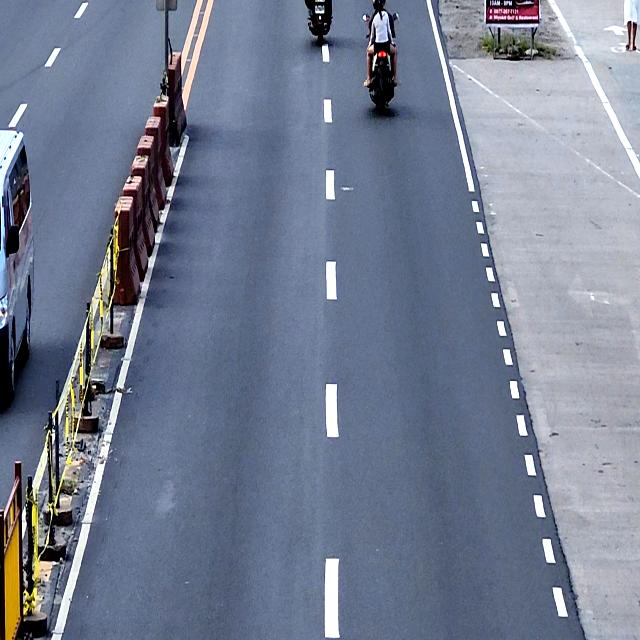Car: (0, 127, 35, 400)
License-Plate: (315, 4, 325, 14)
Motorcycle: (362, 12, 399, 115), (304, 0, 333, 46)
